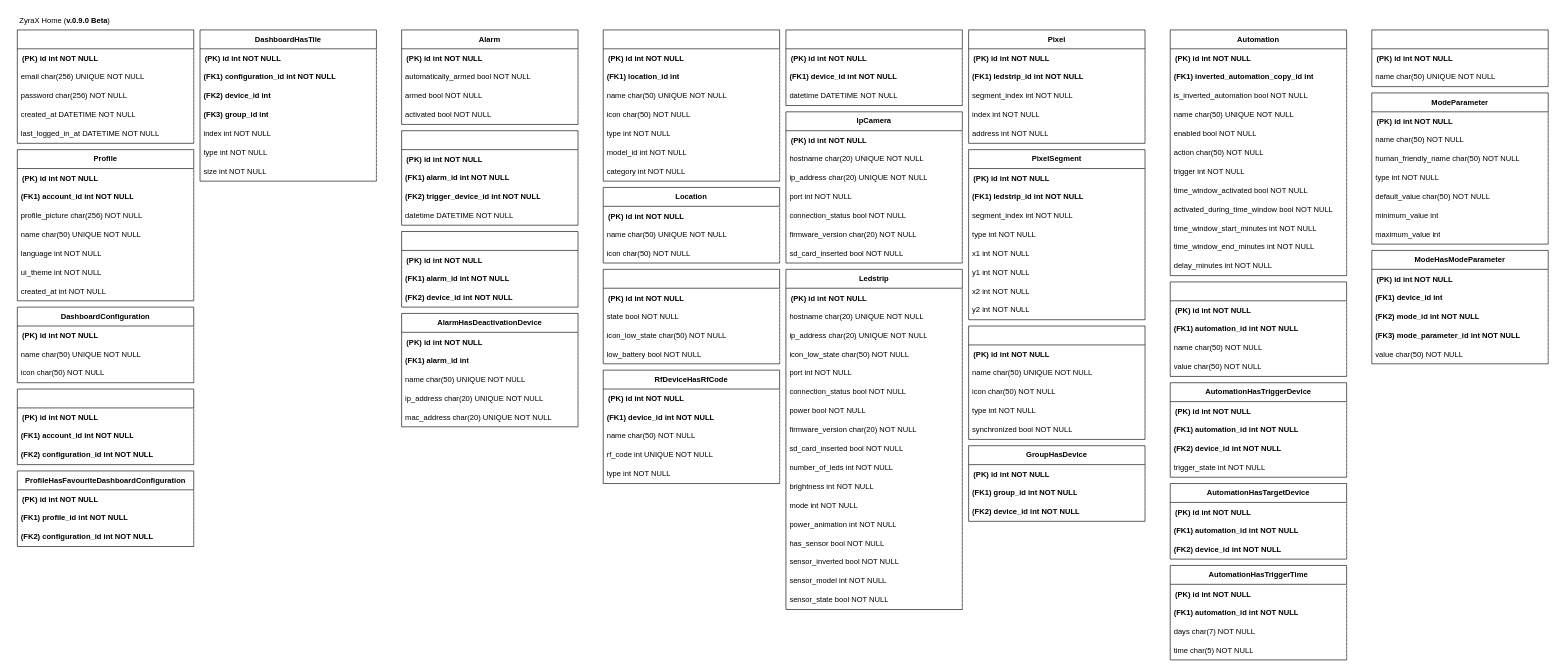
Image size: 1559x671. Some labels were removed from this diagram. The shapes that lost their labels are listed below. From the top down, each one's box as (x1, y1, x2, y2) in pixels, then its label:
(785, 29, 962, 106): RfDeviceIsTriggered
(1371, 29, 1548, 87): Mode
(17, 29, 194, 143): Account
(603, 29, 780, 181): Device
(401, 130, 578, 225): AlarmIsTriggered
(401, 231, 578, 307): AlarmHasTriggerDevice
(603, 269, 780, 364): RfDevice
(1170, 281, 1347, 376): AutomationHasParameter
(968, 325, 1145, 439): Group
(17, 388, 194, 465): AccountHasDashboardConfiguration
